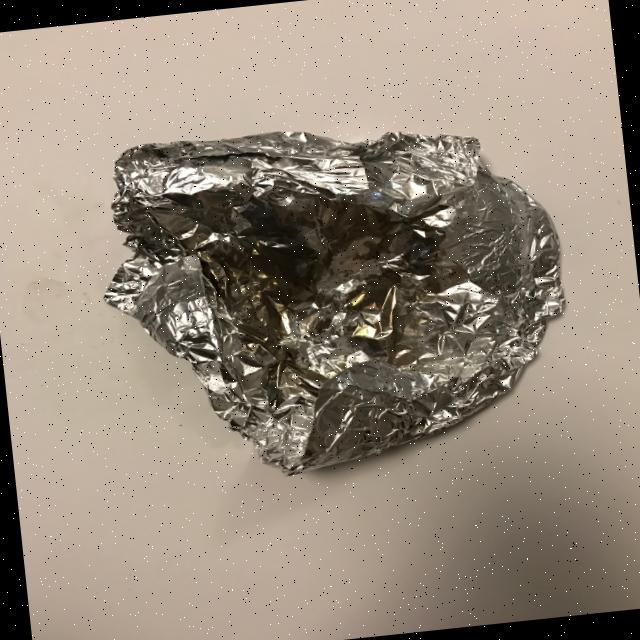metal: (88, 100, 582, 493)
